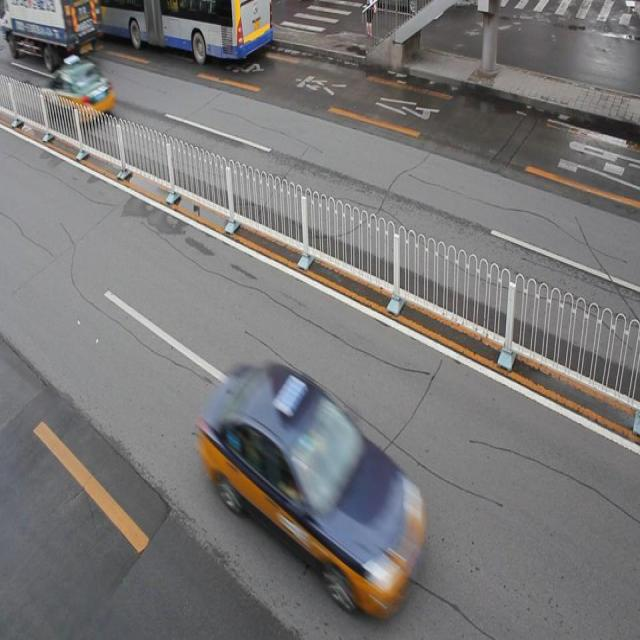bus: (0, 1, 99, 66)
car: (205, 361, 422, 601), (40, 59, 115, 127)
van: (70, 1, 272, 59)
